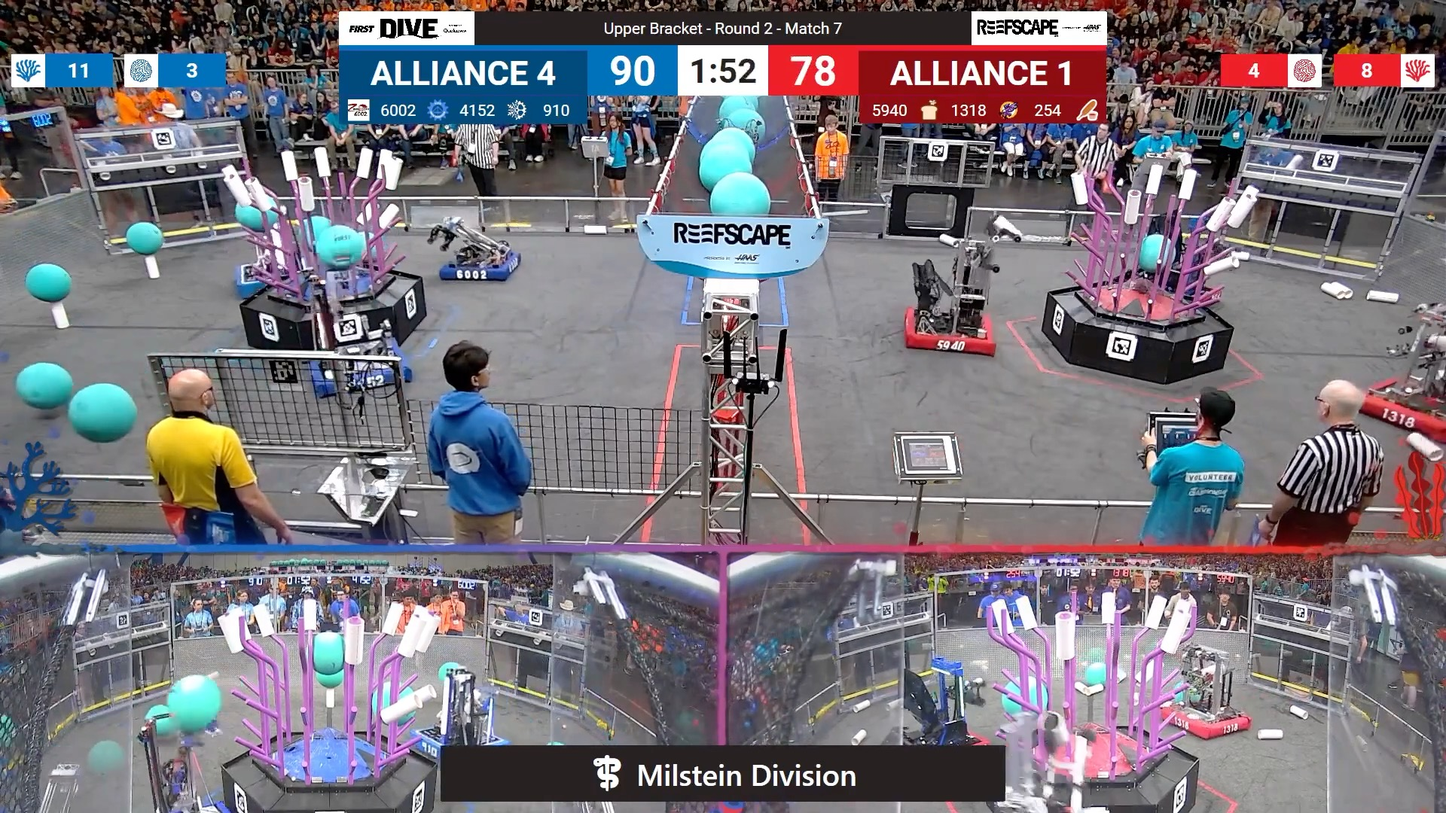bumpers: (896, 304, 1011, 364), (1351, 369, 1446, 436), (304, 343, 418, 396), (1152, 700, 1255, 740), (432, 247, 526, 285)
